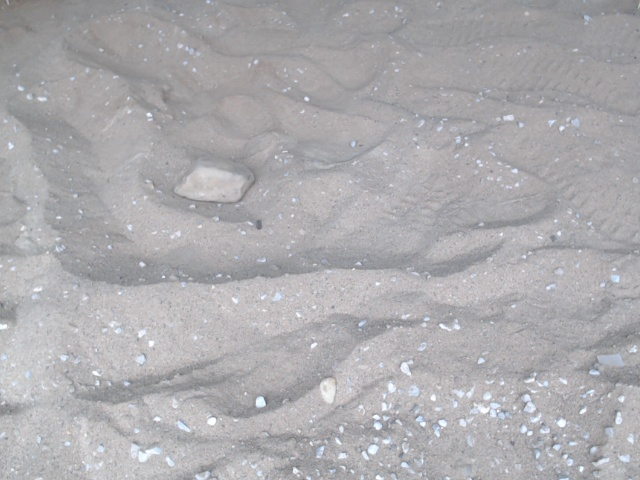rock: (168, 152, 259, 207)
